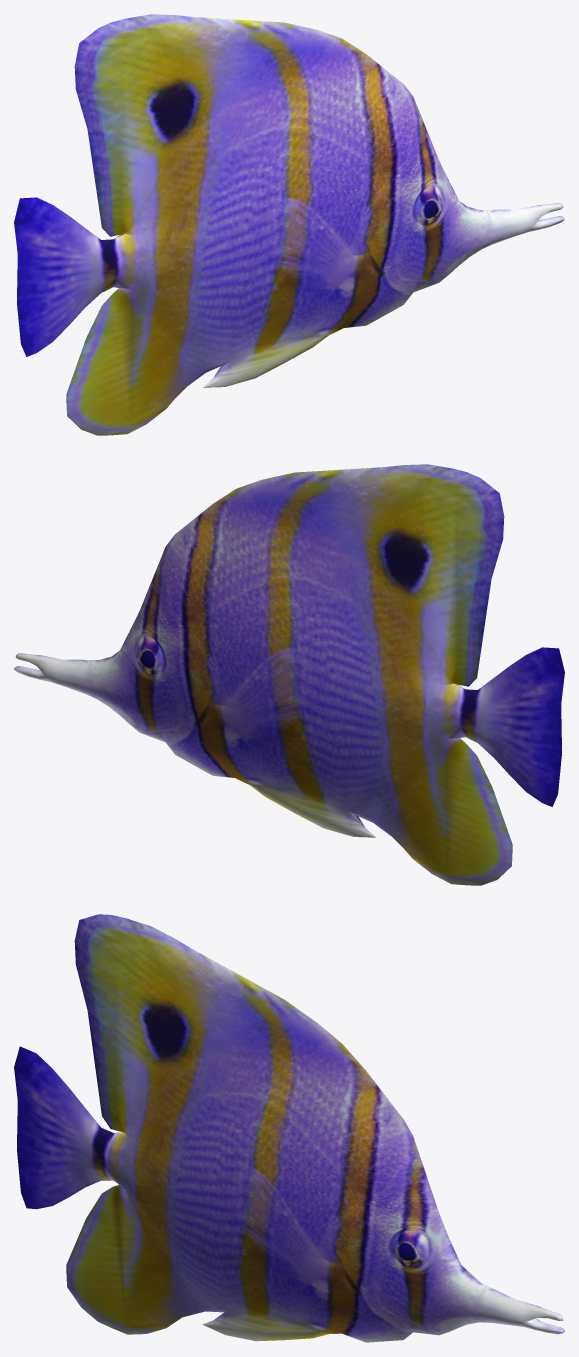
File: small_fish.glb
3 views of the same model, one above another, from view 1: azimuth 30°, elevation 25°; view 2: azimuth 150°, elevation 25°; view 3: azimuth 330°, elevation 25° (orthographic).
Visible parts, largest first — view 1: Object_2; view 2: Object_2; view 3: Object_2.
Part boxes in pixels (box(x1,y1,x2,y2)): Object_2: box(14, 14, 564, 435); Object_2: box(14, 464, 564, 885); Object_2: box(14, 914, 564, 1342).
Bounding box in the file's own units: 0.2651 × 0.1916 × 0.0316.
Materials: 1 (1 with a texture image).
